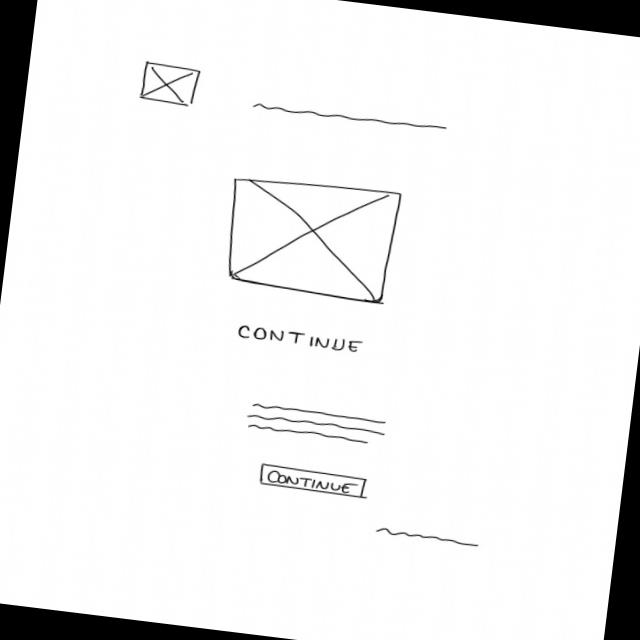button: (256, 462, 370, 499)
image: (219, 170, 402, 305), (136, 59, 200, 109)
label: (232, 322, 364, 356)
text: (248, 98, 450, 134), (374, 524, 482, 551)
textbox: (242, 398, 390, 448)
